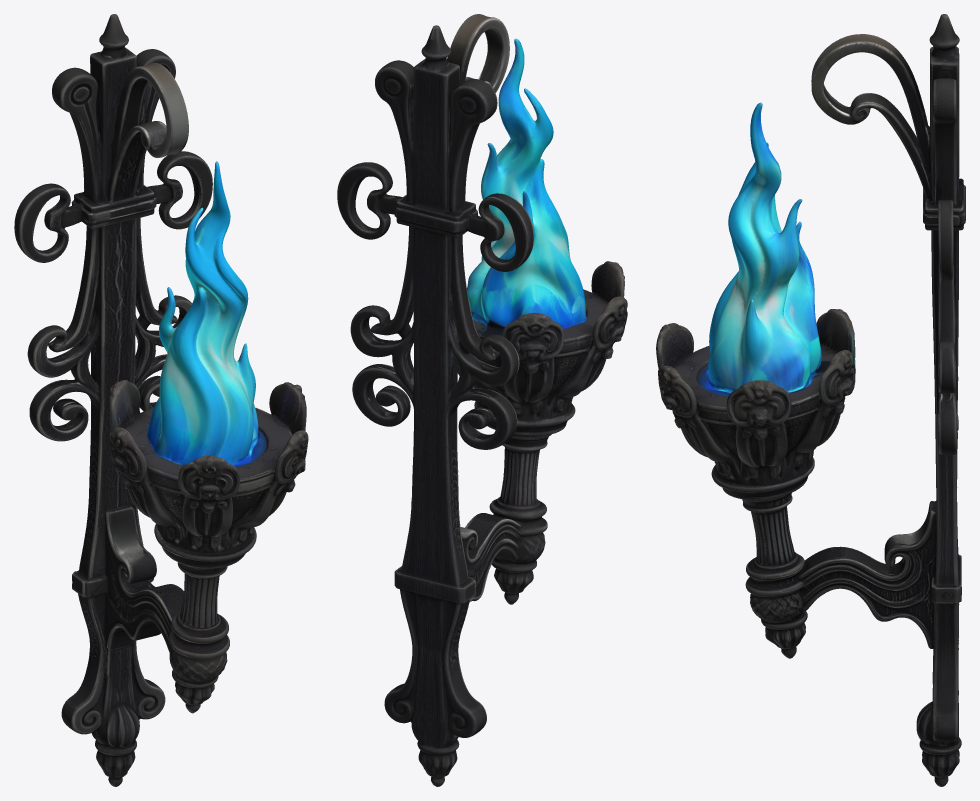
Rendered from stylized_gothic_wall_torch_01.glb.
3 renders of one model, left to right at view 1: azimuth 30°, elevation 25°; view 2: azimuth 150°, elevation 25°; view 3: azimuth 270°, elevation 25°, orthographic.
Visible parts, largest first — view 1: Object_5, Object_4, Object_6, Object_7; view 2: Object_6, Object_4, Object_5, Object_7; view 3: Object_4, Object_5, Object_6, Object_7.
Boxes of the visible parts, box(x1,y1,x2,y2) form: Object_5: box(14, 20, 306, 774); Object_4: box(22, 14, 308, 786); Object_6: box(15, 14, 259, 785); Object_7: box(110, 166, 278, 706); Object_6: box(337, 18, 591, 786); Object_4: box(351, 14, 624, 780); Object_5: box(346, 38, 627, 774); Object_7: box(476, 46, 618, 578); Object_4: box(656, 14, 961, 786); Object_5: box(712, 19, 961, 775); Object_6: box(765, 14, 965, 786); Object_7: box(755, 116, 792, 657).
Size of the model in its own units: 0.1977 by 0.75 by 0.273.
1 material, 1 textured.
